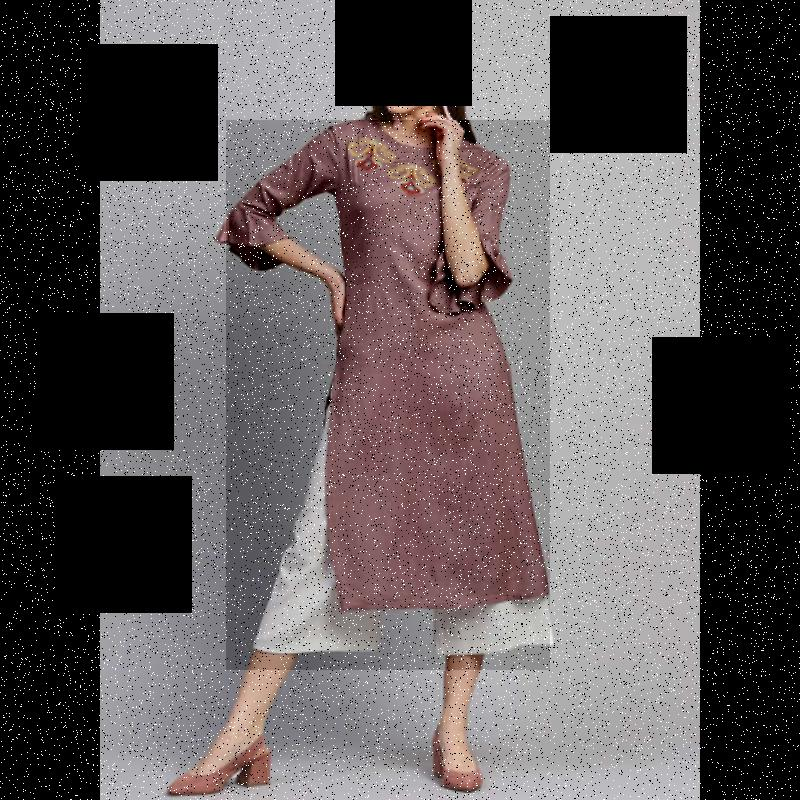Churidaar: (226, 121, 549, 670)
